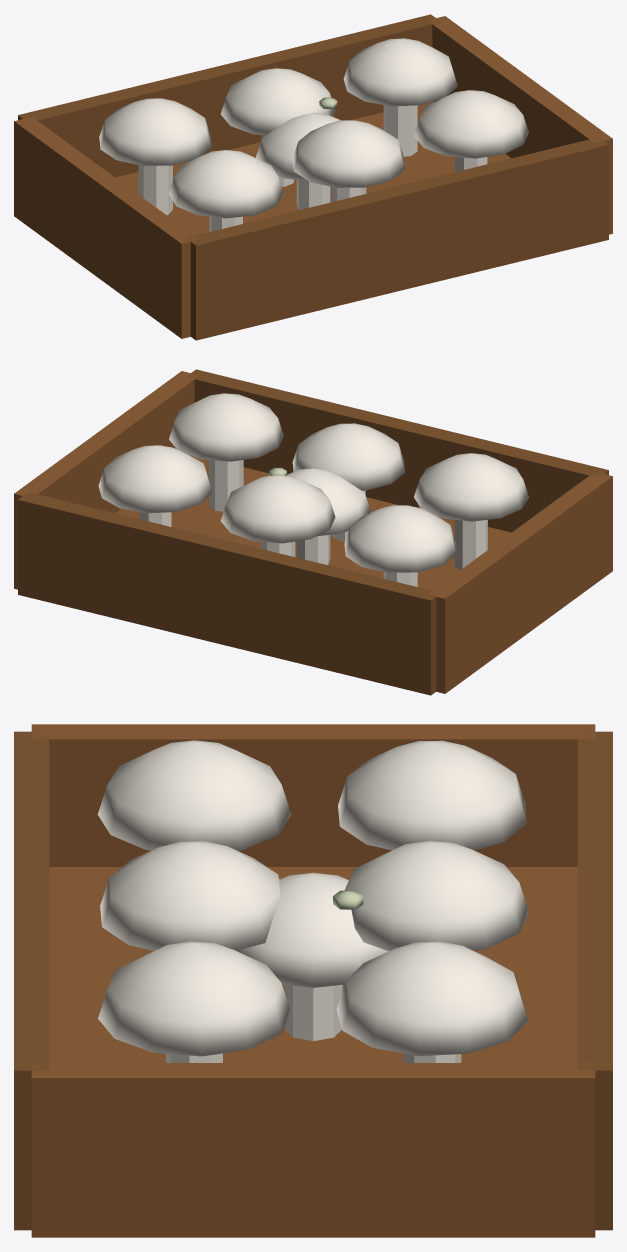
The model's file is Mush_Button.fbx.
3 views of the same model, one above another, from view 1: azimuth 30°, elevation 25°; view 2: azimuth 150°, elevation 25°; view 3: azimuth 270°, elevation 25° (orthographic). The views are drawn at different scales.
Visible parts, largest first — view 1: Mush_Button__Stack, Mush_Button; view 2: Mush_Button__Stack, Mush_Button; view 3: Mush_Button__Stack, Mush_Button.
Boxes of the visible parts, bbox=[...] form: Mush_Button__Stack: bbox=[14, 14, 612, 340]; Mush_Button: bbox=[256, 113, 340, 209]; Mush_Button__Stack: bbox=[14, 369, 612, 695]; Mush_Button: bbox=[287, 468, 370, 564]; Mush_Button__Stack: bbox=[14, 724, 612, 1237]; Mush_Button: bbox=[236, 872, 388, 1040].
Size of the model in its own units: 0.19 by 0.0545 by 0.136.
